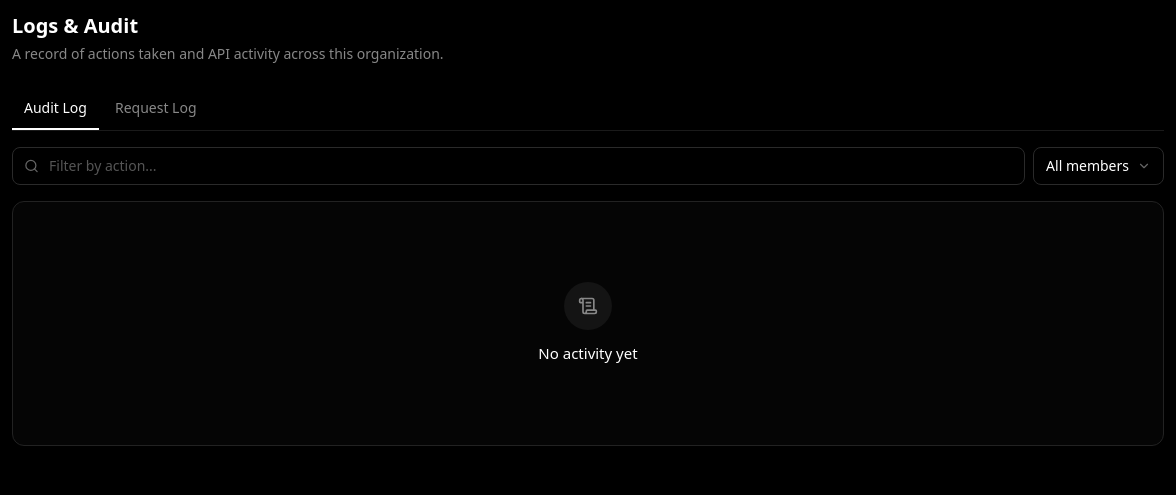
Scenario: AuditLogsSettings › shows an empty state on the Request Log tab
The image size is (1176, 495).
Step 1. Click the button "Request Log" → (156, 109), box [103, 88, 208, 130]
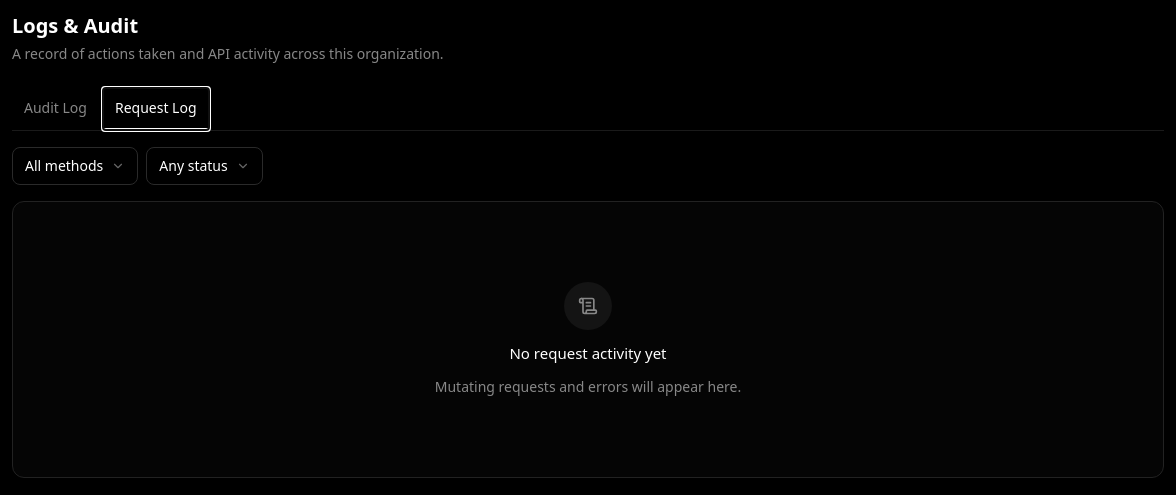
Expected: the text "No request activity yet" is shown, [510, 342, 667, 364]
